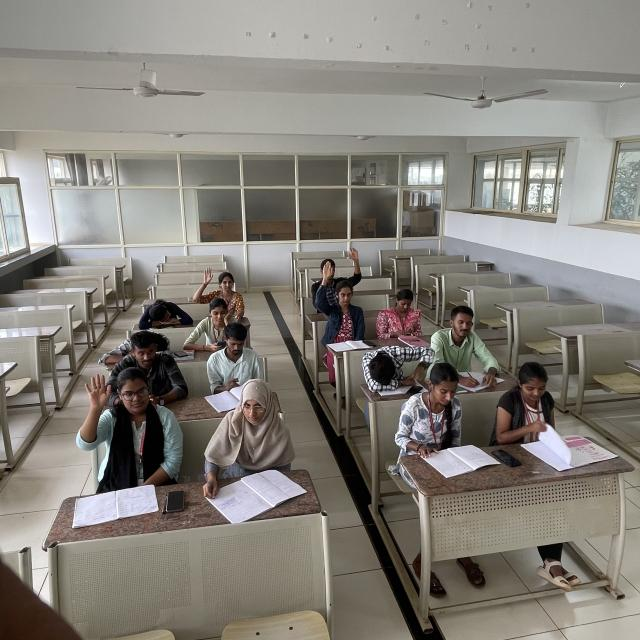Hand Rising: (74, 369, 179, 483), (316, 260, 367, 339), (194, 264, 246, 314), (316, 248, 362, 300)
Reading: (498, 360, 592, 460), (403, 367, 485, 470), (205, 324, 265, 407)
Sleeping: (363, 344, 429, 391), (134, 300, 192, 334)
Using Phone: (111, 329, 185, 401), (187, 297, 234, 352), (376, 285, 422, 333)
Writing: (197, 381, 293, 505), (430, 306, 494, 393)
